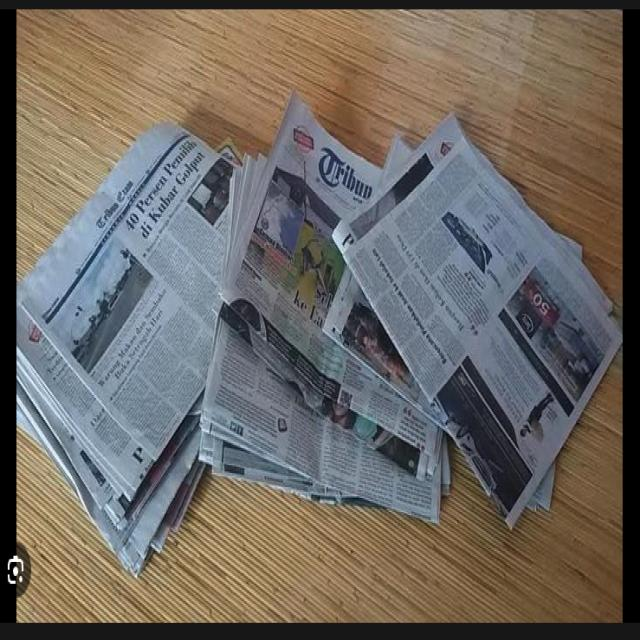Koran: (16, 77, 624, 580), (333, 111, 620, 534), (193, 82, 452, 527), (18, 97, 235, 577)
